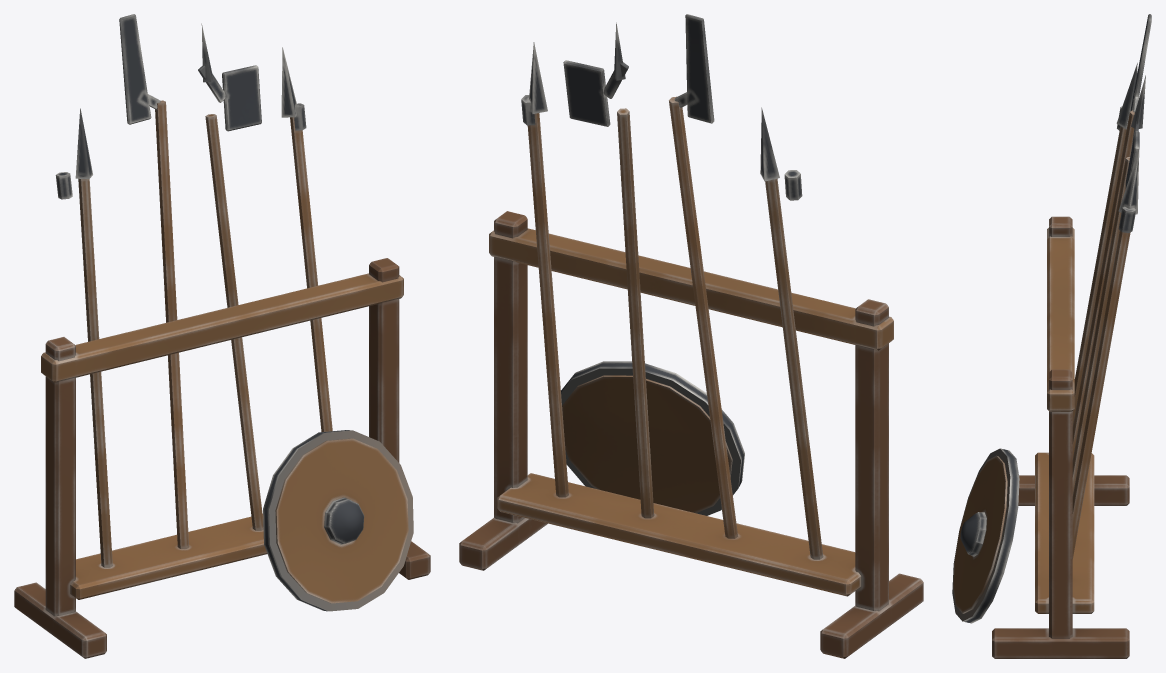
Rendered from gallows_weapon_rack.glb.
3 renders of one model, left to right at view 1: azimuth 30°, elevation 25°; view 2: azimuth 150°, elevation 25°; view 3: azimuth 270°, elevation 25°, orthographic. The views are drawn at different scales.
Parts seen in each view (by area): view 1: gallows_weapon_rack; view 2: gallows_weapon_rack; view 3: gallows_weapon_rack.
Boxes of the visible parts, <box> form: gallows_weapon_rack: <box>14,14,430,658</box>; gallows_weapon_rack: <box>459,14,923,658</box>; gallows_weapon_rack: <box>952,14,1151,658</box>.
Bounding box in the file's own units: 2 × 3.02 × 1.01.
Materials: 1 (1 with a texture image).
